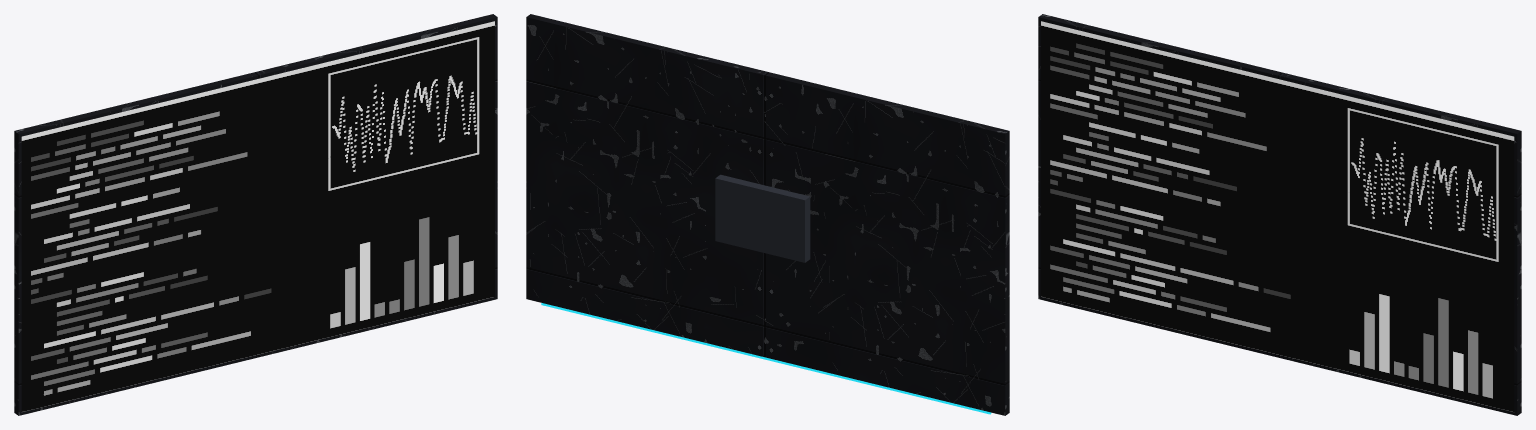
The model's file is Tech_WallDisplay.001.gltf.
3 renders of one model, left to right at view 1: azimuth 30°, elevation 25°; view 2: azimuth 150°, elevation 25°; view 3: azimuth 330°, elevation 25°, orthographic.
Visible parts, largest first — view 1: Tech_WallDisplay.001; view 2: Tech_WallDisplay.001; view 3: Tech_WallDisplay.001.
Part boxes in pixels (x1,y1,x2,y2): Tech_WallDisplay.001: (14, 14, 497, 415); Tech_WallDisplay.001: (526, 14, 1009, 415); Tech_WallDisplay.001: (1038, 14, 1521, 415).
Bounding box in the file's own units: 1.6 × 0.907 × 0.0585.
4 materials, 2 textured.
